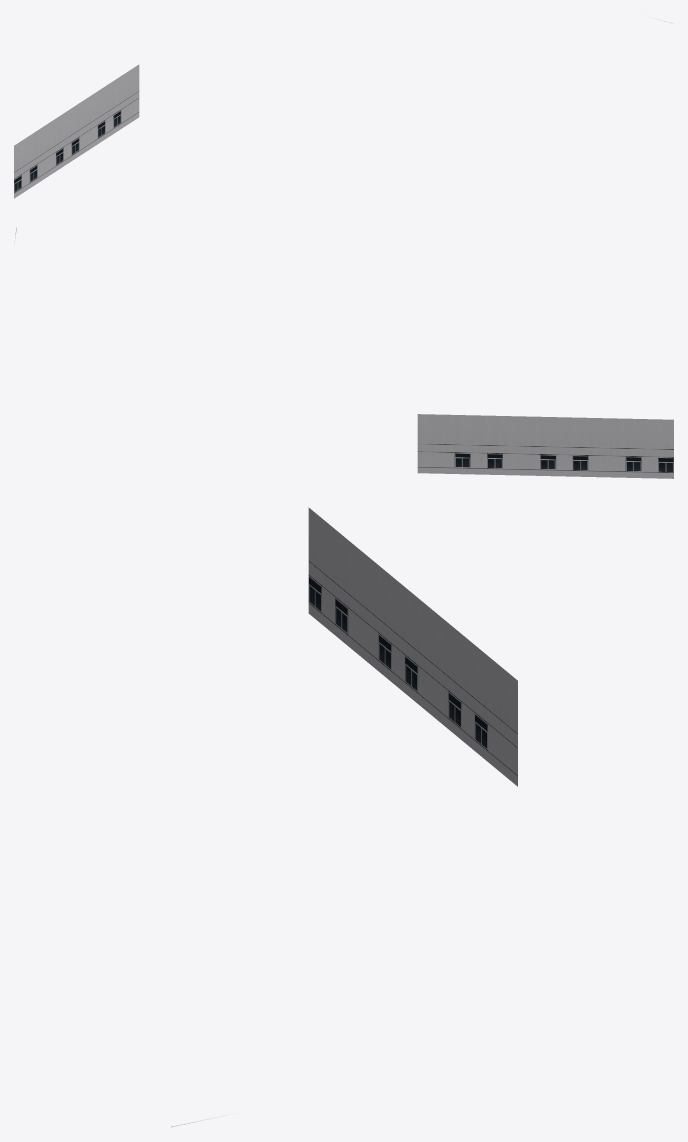
The model's file is myFileName_1097.glb.
3 renders of one model, top to bottom at view 1: azimuth 30°, elevation 25°; view 2: azimuth 150°, elevation 25°; view 3: azimuth 270°, elevation 25°, orthographic. The views are drawn at different scales.
Bounding box in the file's own units: 81.06 × 6.58 × 19.55.
1 material, 1 textured.
